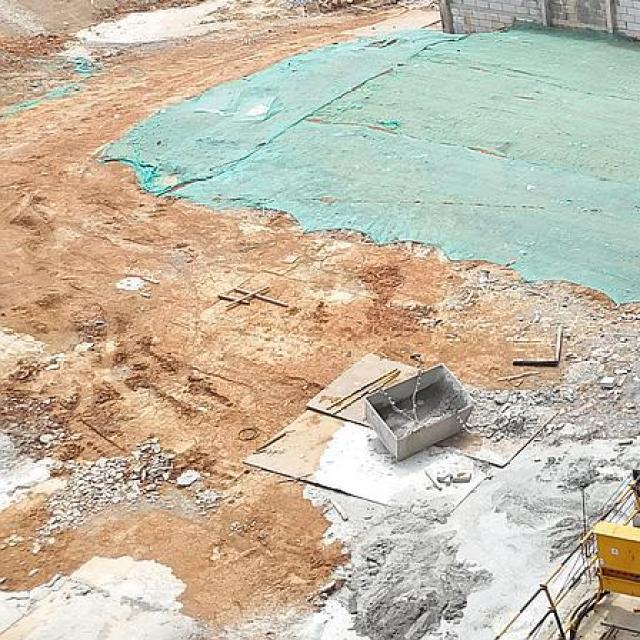edge_guardrail: (487, 475, 640, 640)
